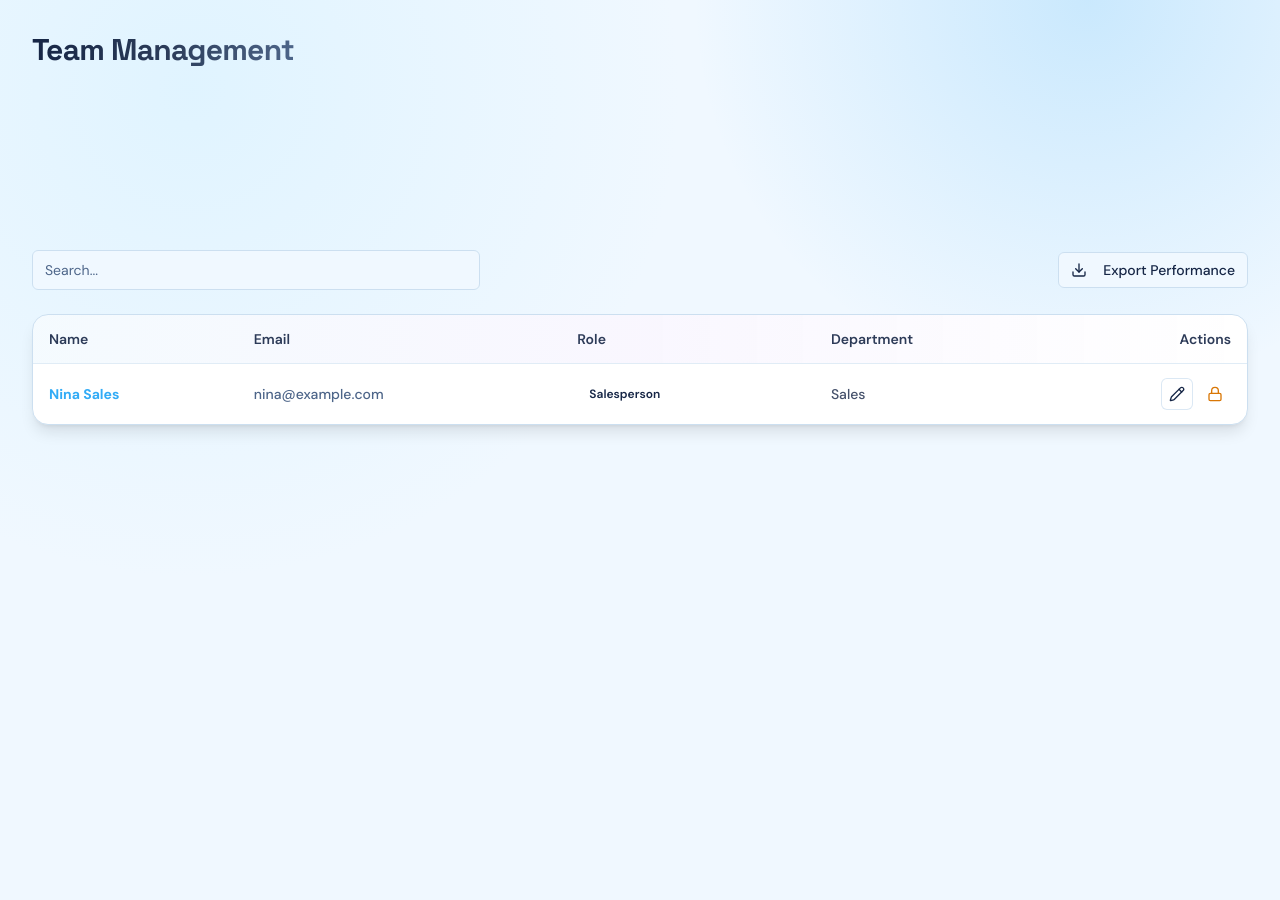
Scenario: TeamPage manager table › shows a single unified sales table when clicking a salesperson
The image size is (1280, 900).
Step 1. Click the button "Nina Sales" → (84, 394), box [49, 384, 120, 404]
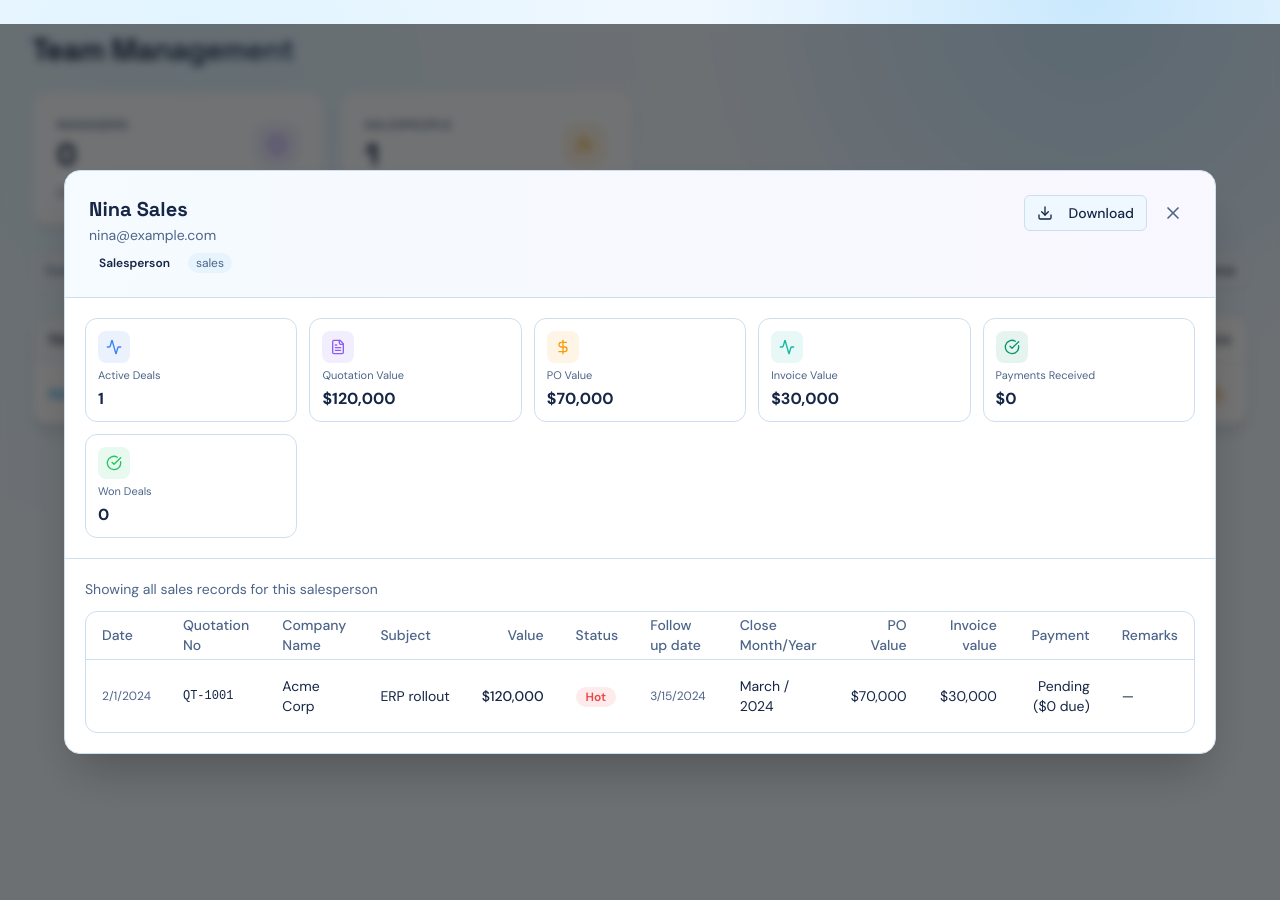
Result: the column heading "Close Month/Year" is shown at [724, 612, 835, 660]
Result: the text "QT-1001" is shown at [167, 660, 266, 732]
Result: the text "March / 2024" is shown at [724, 660, 835, 732]
